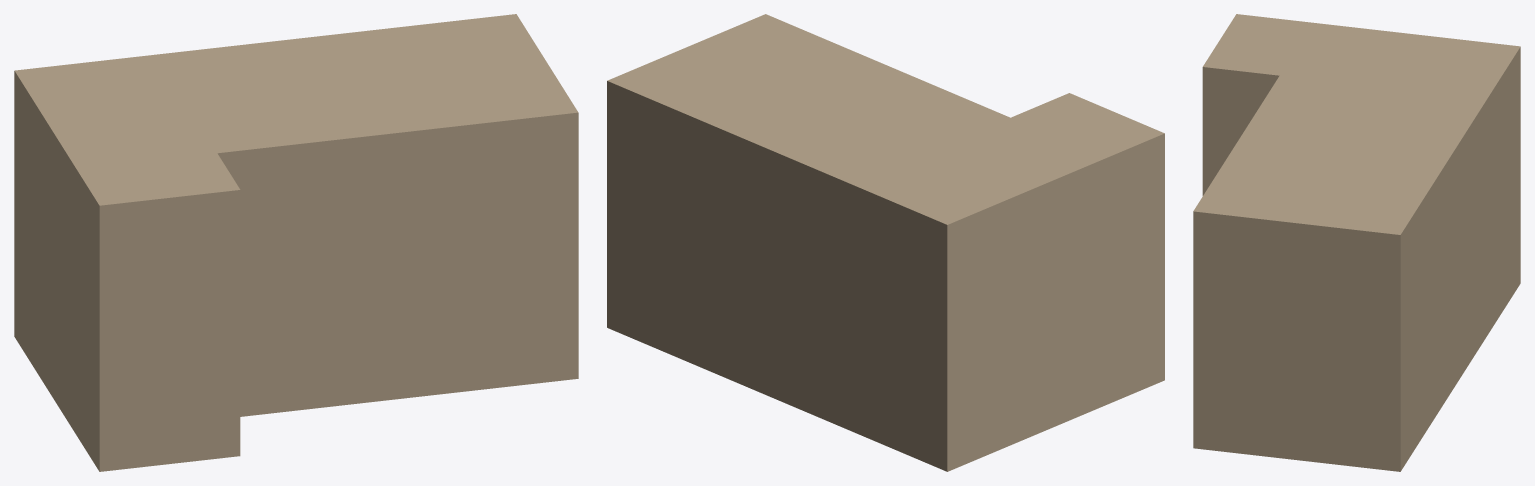
The model's file is bld_99532182.dae.
3 renders of one model, left to right at view 1: azimuth 30°, elevation 25°; view 2: azimuth 150°, elevation 25°; view 3: azimuth 270°, elevation 25°, orthographic. The views are drawn at different scales.
Parts seen in each view (by area): view 1: bld_99532182; view 2: bld_99532182; view 3: bld_99532182.
Boxes of the visible parts, box(x1,y1,x2,y2) form: bld_99532182: box(14, 14, 578, 471); bld_99532182: box(607, 14, 1164, 471); bld_99532182: box(1193, 14, 1520, 471).
Size of the model in its own units: 16.01 by 10.02 by 8.
